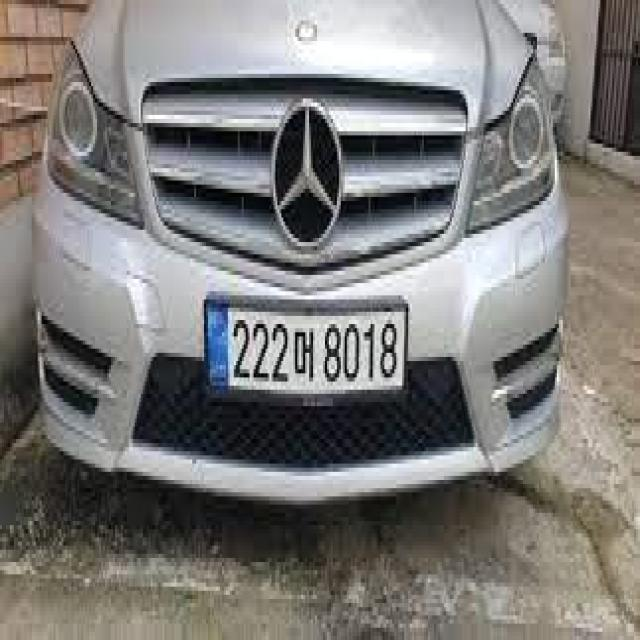illegal_plate: (203, 294, 410, 408)
